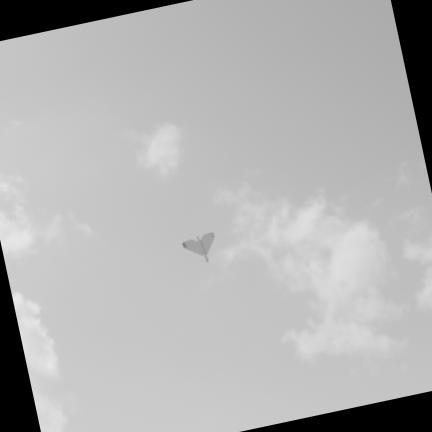Shahed: (183, 232, 215, 261)
